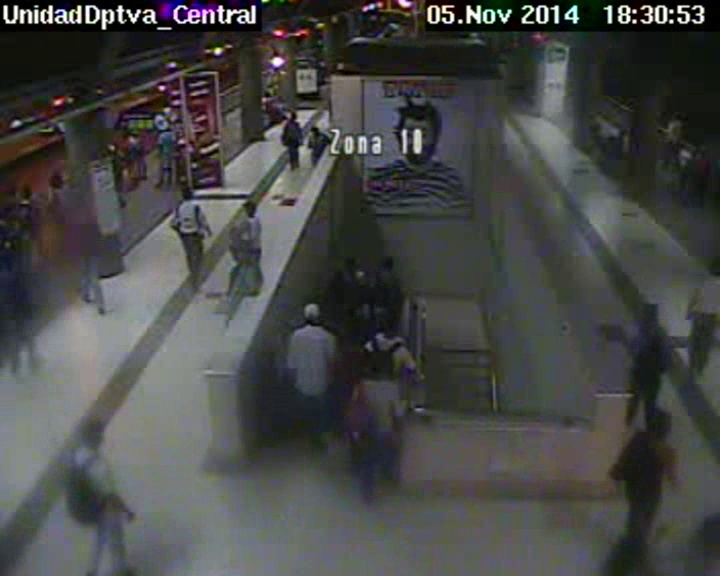person: (645, 406, 672, 434), (78, 422, 103, 449), (634, 302, 659, 326), (364, 357, 387, 380), (376, 312, 399, 335), (237, 196, 259, 218), (301, 303, 321, 326), (177, 185, 200, 203), (341, 257, 360, 275), (74, 198, 92, 216), (378, 253, 396, 270), (708, 257, 720, 279), (49, 173, 66, 187), (18, 187, 33, 202), (662, 149, 677, 164), (692, 147, 706, 161), (106, 142, 121, 155), (352, 269, 365, 283), (671, 109, 684, 122), (126, 126, 140, 138), (307, 126, 321, 137), (161, 122, 172, 135), (287, 111, 300, 121), (263, 91, 270, 99), (267, 85, 274, 93), (273, 68, 280, 75), (274, 86, 280, 91)
